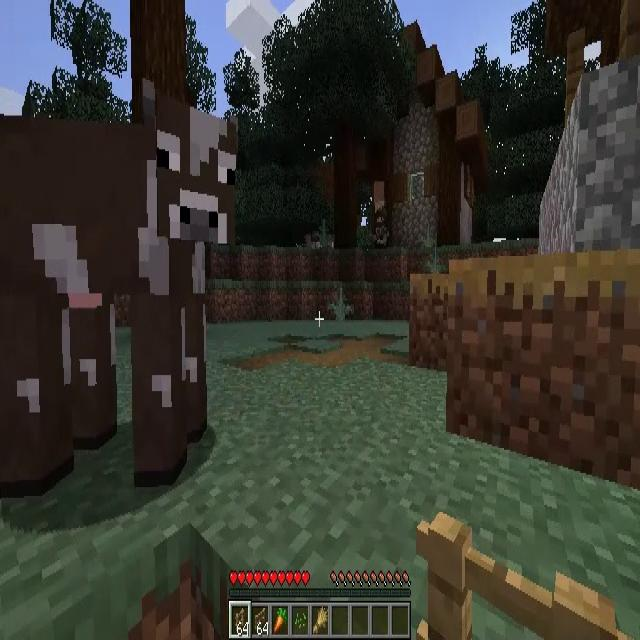cow: (2, 103, 236, 500)
people: (372, 180, 389, 247)
